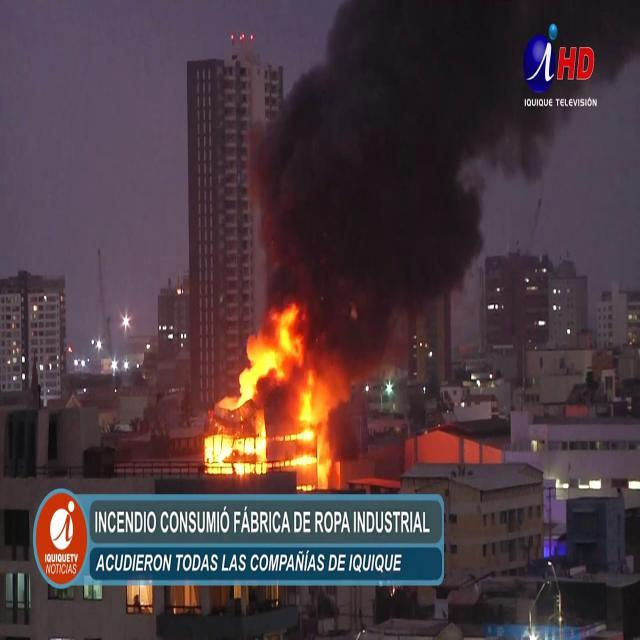Fire: (198, 300, 352, 482)
Smoke: (248, 0, 552, 318)
